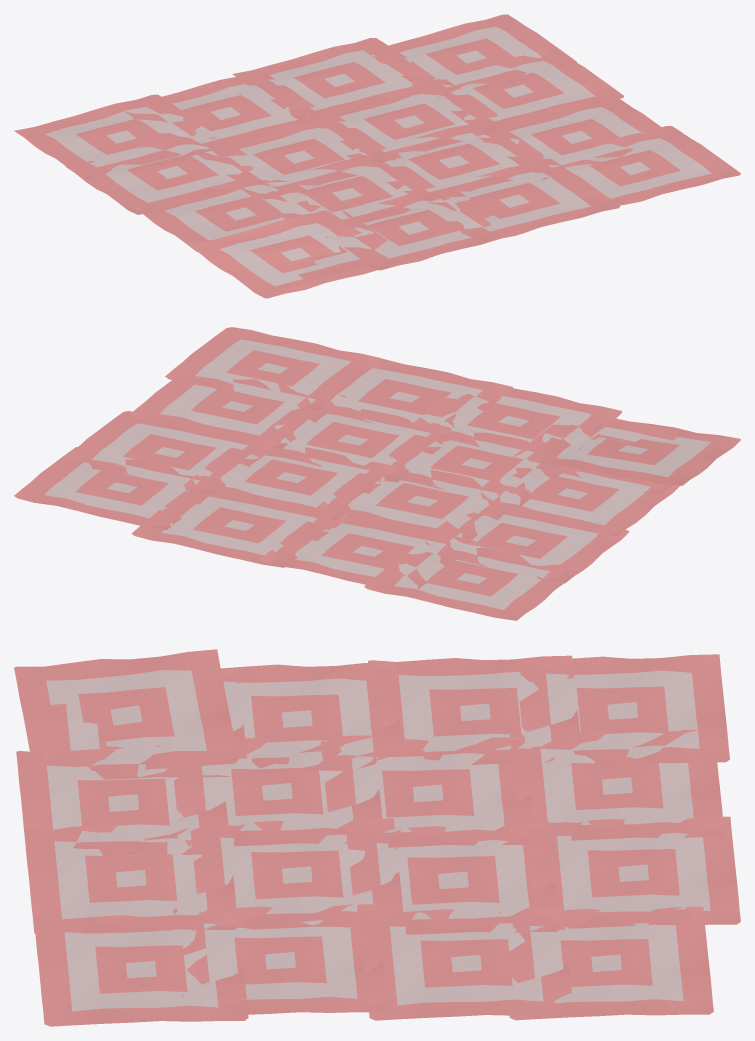
Rendered from Rug.obj.
3 renders of one model, top to bottom at view 1: azimuth 30°, elevation 25°; view 2: azimuth 150°, elevation 25°; view 3: azimuth 270°, elevation 25°, orthographic. The views are drawn at different scales.
Parts seen in each view (by area): view 1: carpet; view 2: carpet; view 3: carpet.
Part boxes in pixels (x1,y1,x2,y2): carpet: (14, 14, 740, 298); carpet: (14, 327, 740, 620); carpet: (14, 649, 740, 1026).
Size of the model in its own units: 1097 by 26.36 by 913.
